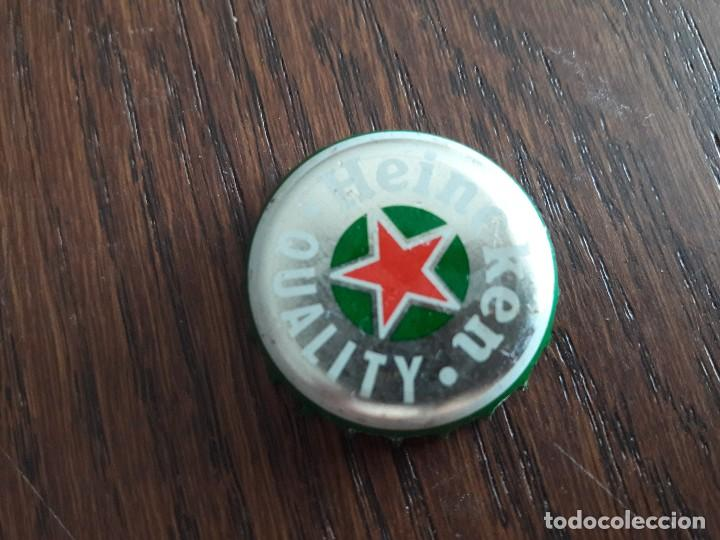heineken: (240, 127, 563, 440)
